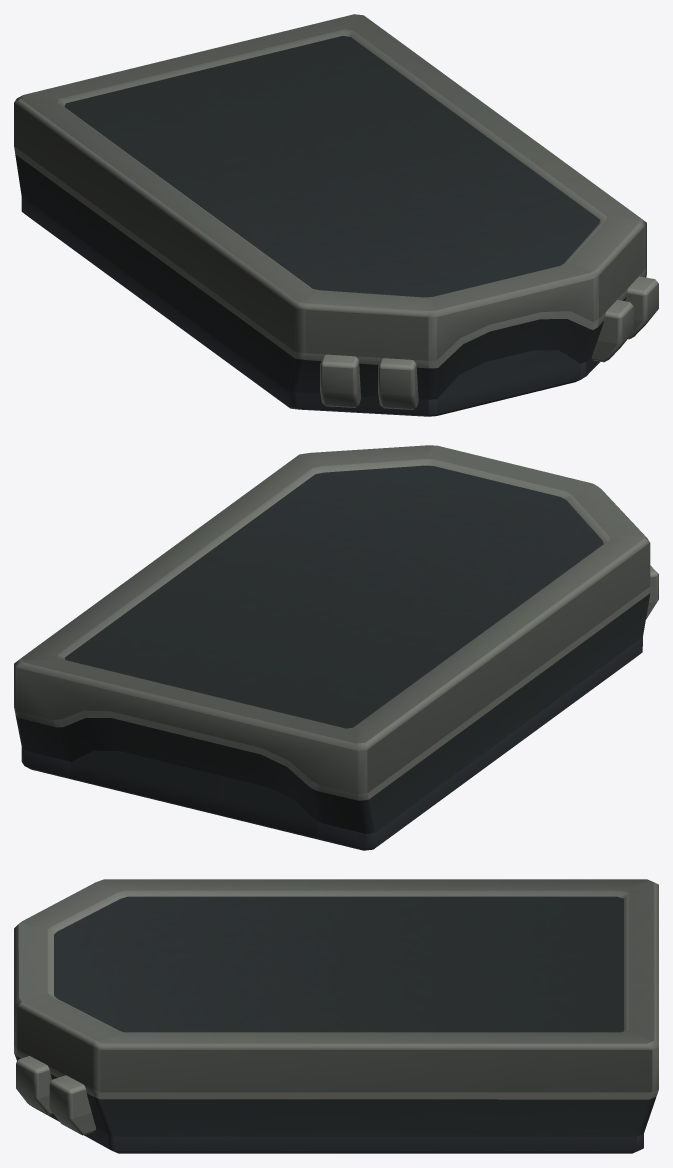
The model's file is appartment_type4_roof_type1_flat_cream.fbx.
3 renders of one model, top to bottom at view 1: azimuth 30°, elevation 25°; view 2: azimuth 150°, elevation 25°; view 3: azimuth 270°, elevation 25°, orthographic. The views are drawn at different scales.
Visible parts, largest first — view 1: appartment_type4_roof_type1_flat_cream; view 2: appartment_type4_roof_type1_flat_cream; view 3: appartment_type4_roof_type1_flat_cream.
Part boxes in pixels (bbox=[...]): appartment_type4_roof_type1_flat_cream: bbox=[14, 14, 658, 416]; appartment_type4_roof_type1_flat_cream: bbox=[14, 445, 658, 850]; appartment_type4_roof_type1_flat_cream: bbox=[14, 879, 658, 1153].
Size of the model in its own units: 610 by 186 by 988.
